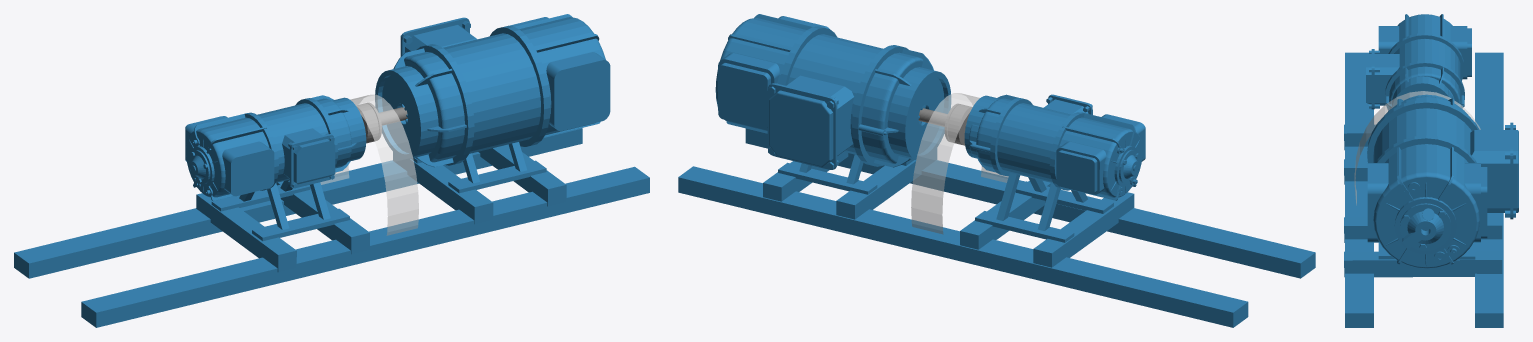
The model's file is Dvigatel.fbx.
3 renders of one model, left to right at view 1: azimuth 30°, elevation 25°; view 2: azimuth 150°, elevation 25°; view 3: azimuth 270°, elevation 25°, orthographic. The views are drawn at different scales.
Visible parts, largest first — view 1: Cube.018, Cylinder.035, Cube.017, Cylinder, Cylinder.017, Cube.051, Cube.020, Cube, Cylinder.012, Cube.033, Cube.050, Cube.019 (+15 smaller); view 2: Cube.017, Cylinder.035, Cube.018, Cylinder, Cube.001, Cylinder.017, Cube.051, Cube, Cube.020, Cylinder.012, Cube.033, Cube.019 (+15 smaller); view 3: Cylinder.035, Cube.018, Cube.017, Cylinder, Cube.001, Cube.034, Cube.051, Cylinder.034, Cylinder.029, Cube, Cube.050, Cylinder.033 (+15 smaller).
Boxes of the visible parts, box(x1,y1,x2,y2) form: Cube.018: box(81, 166, 649, 327); Cylinder.035: box(382, 17, 605, 162); Cube.017: box(14, 128, 582, 278); Cylinder: box(186, 98, 351, 197); Cylinder.017: box(320, 94, 418, 235); Cube.051: box(509, 17, 610, 131); Cube.020: box(196, 193, 296, 272); Cube: box(185, 116, 274, 196); Cylinder.012: box(375, 66, 438, 159); Cube.033: box(393, 152, 493, 224); Cube.050: box(282, 128, 335, 184); Cube.019: box(276, 181, 369, 254); Cube.017: box(678, 166, 1248, 327); Cylinder.035: box(715, 18, 944, 163); Cube.018: box(745, 128, 1315, 278); Cylinder: box(969, 98, 1142, 197); Cube.001: box(769, 75, 853, 167); Cylinder.017: box(911, 93, 1008, 234); Cube.051: box(718, 16, 829, 130); Cube: box(1056, 114, 1145, 194); Cube.020: box(1033, 192, 1134, 267); Cylinder.012: box(887, 67, 950, 160); Cube.033: box(836, 149, 936, 219); Cube.019: box(960, 180, 1050, 249); Cylinder.035: box(1373, 96, 1479, 268); Cube.018: box(1345, 52, 1373, 327); Cube.017: box(1475, 52, 1503, 327); Cylinder: box(1389, 14, 1460, 108); Cube.001: box(1470, 130, 1518, 212); Cube.034: box(1344, 251, 1502, 277); Cube.051: box(1367, 163, 1487, 242); Cylinder.034: box(1400, 203, 1451, 250); Cylinder.029: box(1367, 99, 1479, 162); Cube: box(1378, 26, 1471, 79); Cube.050: box(1366, 54, 1399, 105); Cylinder.033: box(1394, 197, 1456, 254).
Size of the model in its own units: 2392 by 634 by 677.
